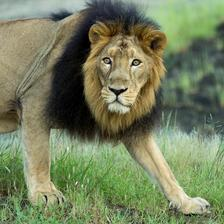Lion: (0, 0, 216, 224)
